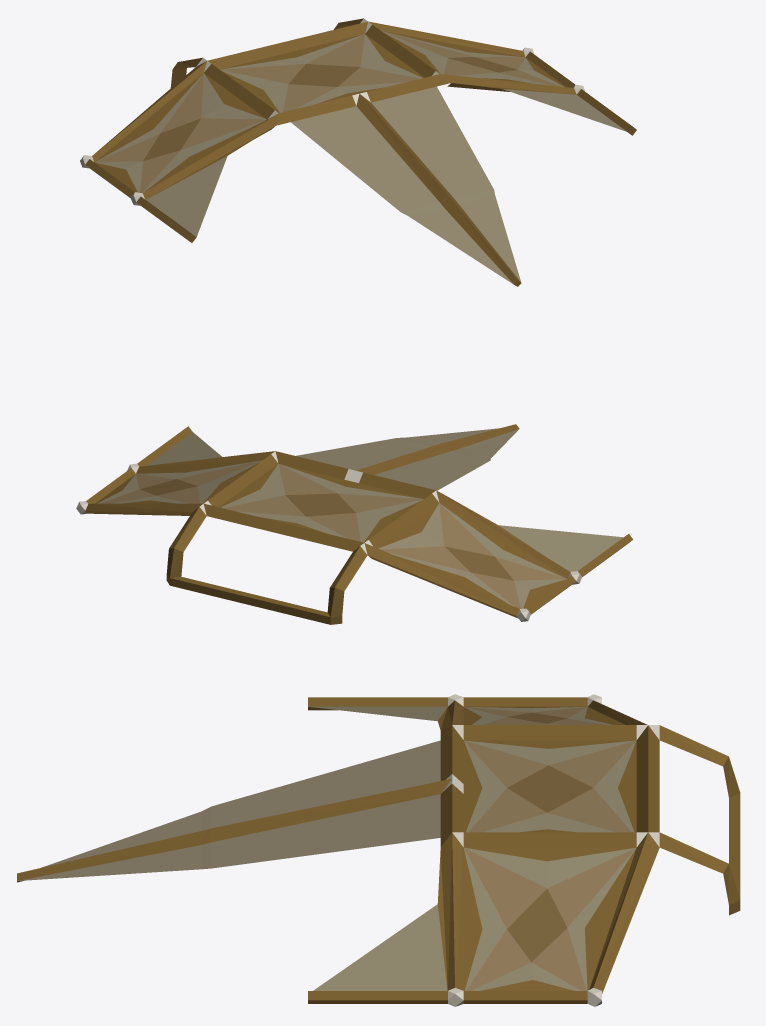
The model's file is gnome-gliders.gltf.
The picture shows the model from 3 angles, top to bottom: view 1: azimuth 30°, elevation 25°; view 2: azimuth 150°, elevation 25°; view 3: azimuth 270°, elevation 25°; orthographic projection. The views are drawn at different scales.
Size of the model in its own units: 512 by 80 by 512.
1 material, 1 textured.
